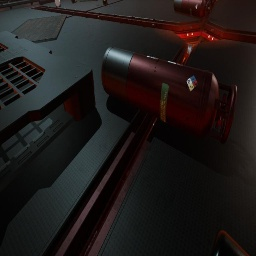0: (55, 0, 60, 7), (102, 0, 107, 4), (71, 0, 76, 3)
FireExtinguisher ]: (208, 228, 251, 256)
NitrogenTank ,: (101, 47, 237, 144), (174, 0, 212, 18), (38, 0, 55, 5)
